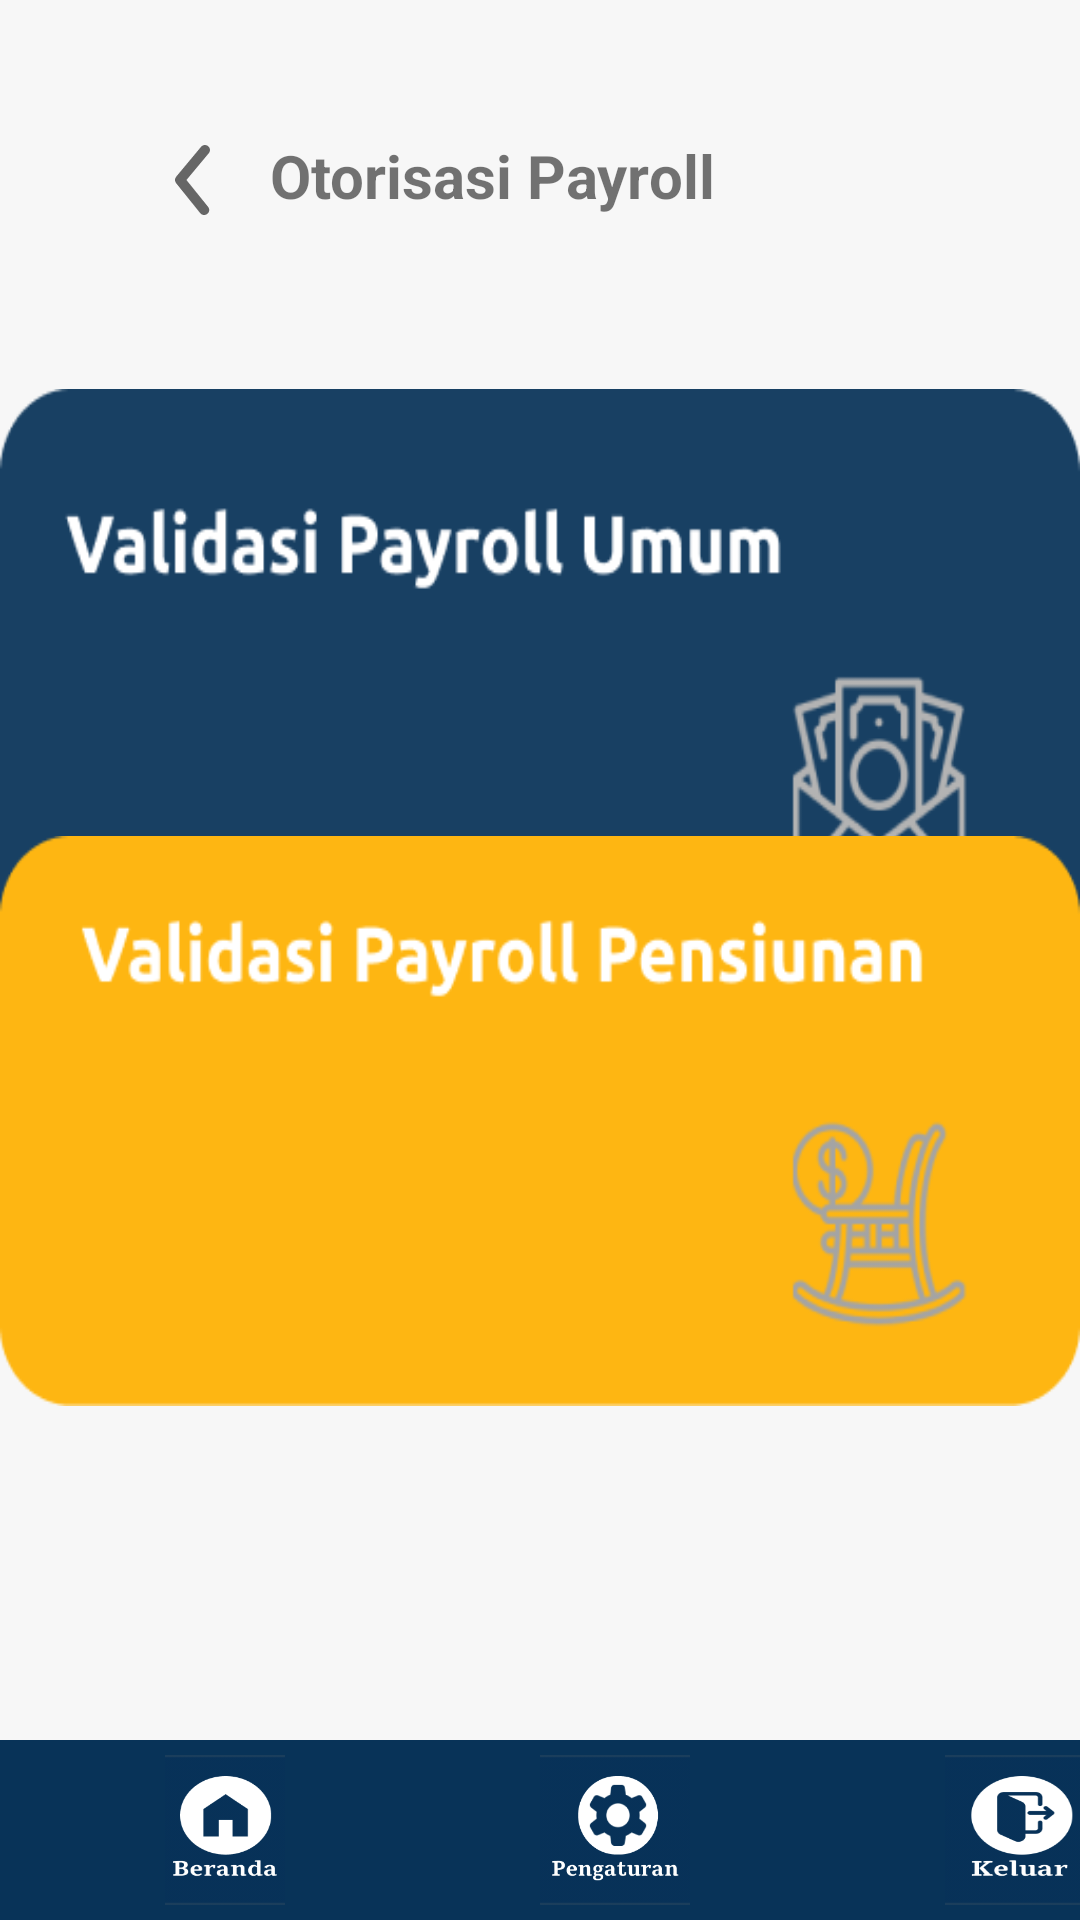

Icons on this 1080 x 1920 Android screen, each with its box as (x1, y1, x2, y2):
back arrow: (175, 145, 210, 215)
